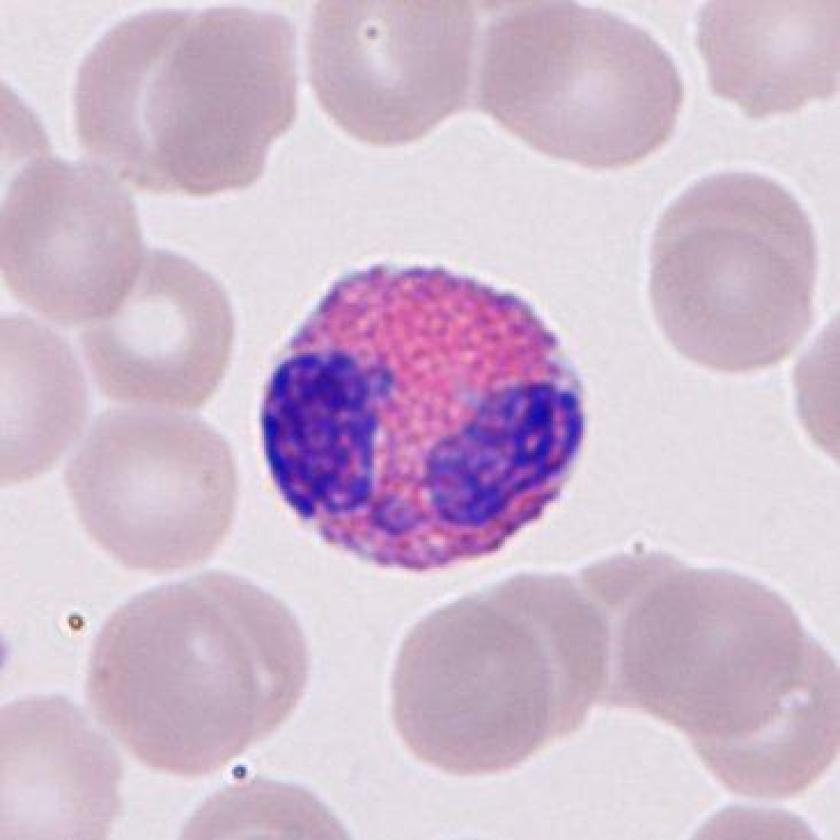eosinophil: (247, 245, 602, 588)
